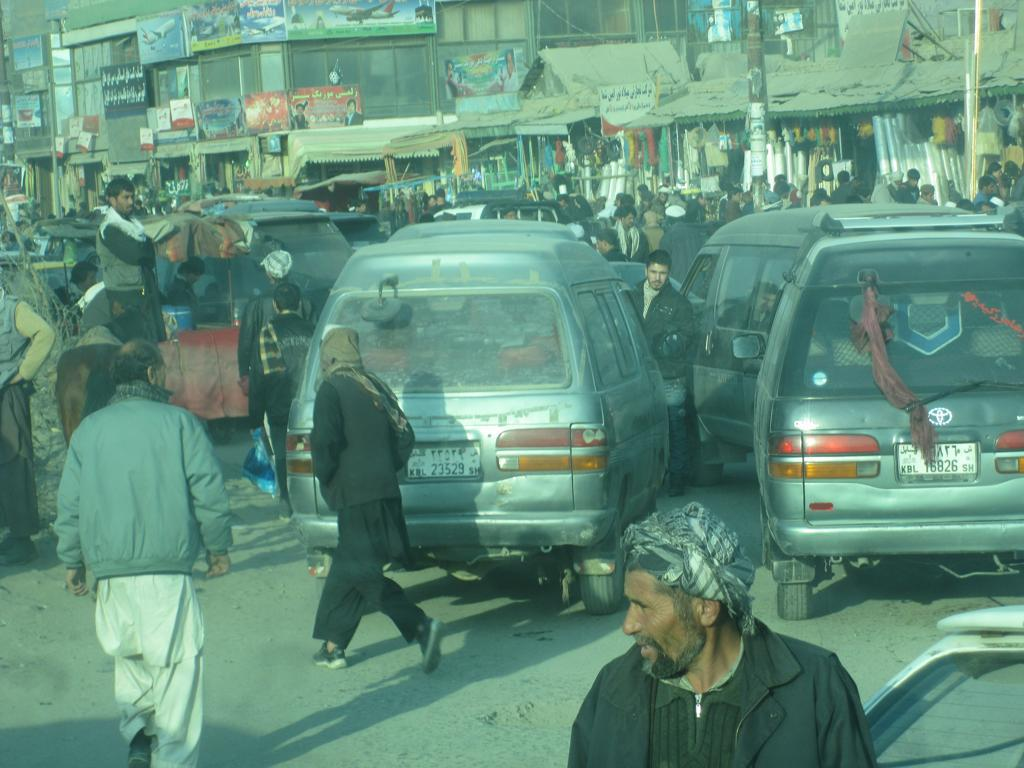face: (625, 564, 707, 680), (152, 359, 166, 397), (648, 266, 668, 290), (116, 191, 135, 214), (83, 272, 96, 292), (597, 239, 608, 255), (188, 272, 202, 284), (624, 214, 635, 228), (507, 212, 517, 224), (986, 184, 994, 196), (614, 197, 623, 207), (911, 177, 919, 188), (733, 192, 740, 203), (995, 169, 1002, 180), (660, 193, 667, 203), (927, 192, 934, 202), (359, 204, 367, 212), (429, 198, 435, 207), (437, 197, 443, 206)
